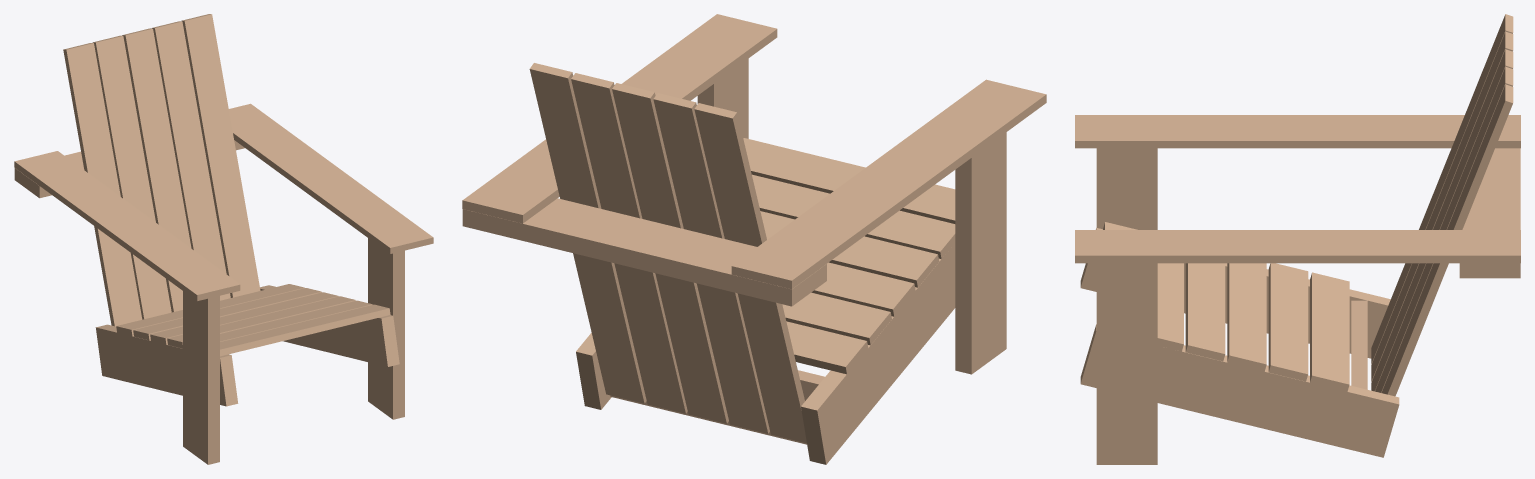
File: natural.glb
3 views of the same model, side by side, from view 1: azimuth 30°, elevation 25°; view 2: azimuth 150°, elevation 25°; view 3: azimuth 270°, elevation 25° (orthographic). The views are drawn at different scales.
Parts seen in each view (by area): view 1: arm.1, arm.2, back_slat.5, back_slat.4, back_slat.1, back_slat.2, back_slat.3, front_leg.1, stringer.1, front_leg.2, stringer.2, seat_slat.6 (+6 smaller); view 2: arm.1, upper_back_support.1, back_slat.1, front_leg.1, back_slat.5, back_slat.3, back_slat.2, back_slat.4, arm.2, stringer.1, seat_slat.6, seat_slat.5 (+7 smaller); view 3: arm.2, stringer.2, arm.1, front_leg.2, front_leg.1, seat_slat.2, upper_back_support.1, seat_slat.1, back_slat.5, seat_slat.3, seat_slat.4, back_slat.2 (+6 smaller).
Boxes of the visible parts, x1=… form: arm.1: x1=14, y1=151, x2=240, y2=301; arm.2: x1=228, y1=103, x2=433, y2=253; back_slat.5: x1=181, y1=14, x2=260, y2=297; back_slat.4: x1=151, y1=21, x2=230, y2=300; back_slat.1: x1=63, y1=43, x2=142, y2=326; back_slat.2: x1=92, y1=35, x2=171, y2=319; back_slat.3: x1=122, y1=28, x2=191, y2=312; front_leg.1: x1=183, y1=291, x2=219, y2=464; stringer.1: x1=95, y1=324, x2=238, y2=406; front_leg.2: x1=368, y1=238, x2=404, y2=419; stringer.2: x1=260, y1=285, x2=399, y2=366; seat_slat.6: x1=220, y1=304, x2=390, y2=356; arm.1: x1=731, y1=79, x2=1046, y2=289; upper_back_support.1: x1=462, y1=198, x2=826, y2=306; back_slat.1: x1=694, y1=103, x2=806, y2=443; front_leg.1: x1=955, y1=132, x2=1006, y2=374; back_slat.5: x1=529, y1=63, x2=646, y2=403; back_slat.3: x1=612, y1=83, x2=728, y2=423; back_slat.2: x1=653, y1=93, x2=769, y2=433; back_slat.4: x1=571, y1=73, x2=687, y2=413; arm.2: x1=462, y1=14, x2=777, y2=223; stringer.1: x1=801, y1=243, x2=955, y2=464; seat_slat.6: x1=743, y1=138, x2=955, y2=223; seat_slat.5: x1=752, y1=174, x2=955, y2=258; arm.2: x1=1075, y1=230, x2=1520, y2=263; stringer.2: x1=1080, y1=324, x2=1399, y2=457; arm.1: x1=1075, y1=115, x2=1520, y2=148; front_leg.2: x1=1096, y1=263, x2=1157, y2=464; front_leg.1: x1=1096, y1=148, x2=1157, y2=229; seat_slat.2: x1=1268, y1=263, x2=1308, y2=381; upper_back_support.1: x1=1459, y1=148, x2=1520, y2=278; seat_slat.1: x1=1310, y1=272, x2=1349, y2=391; back_slat.5: x1=1381, y1=84, x2=1513, y2=396; seat_slat.3: x1=1227, y1=263, x2=1266, y2=371; seat_slat.4: x1=1185, y1=263, x2=1225, y2=361; back_slat.2: x1=1371, y1=31, x2=1513, y2=381.
Size of the model in its own units: 0.764 by 0.8841 by 1.02.
